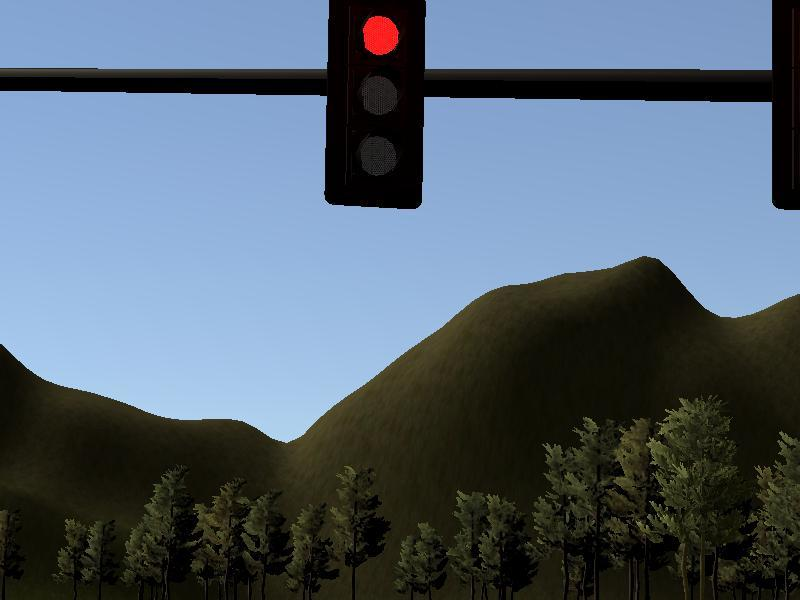Red: (326, 1, 425, 210)
